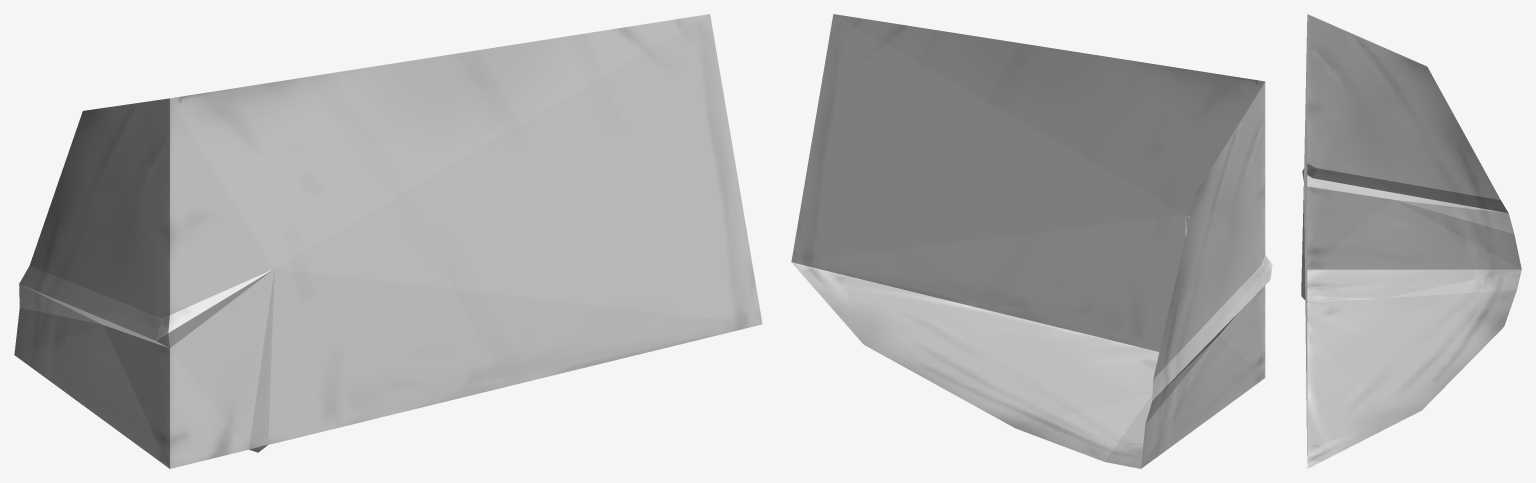
The model's file is testCloth.glb.
3 views of the same model, side by side, from view 1: azimuth 30°, elevation 25°; view 2: azimuth 150°, elevation 25°; view 3: azimuth 270°, elevation 25° (orthographic). The views are drawn at different scales.
Visible parts, largest first — view 1: Cube; view 2: Cube; view 3: Cube.
Boxes of the visible parts, bbox=[...] form: Cube: bbox=[14, 14, 762, 468]; Cube: bbox=[791, 14, 1272, 468]; Cube: bbox=[1301, 14, 1521, 468].
Bounding box in the file's own units: 272 × 163 × 125.
Materials: 1 (1 with a texture image).
